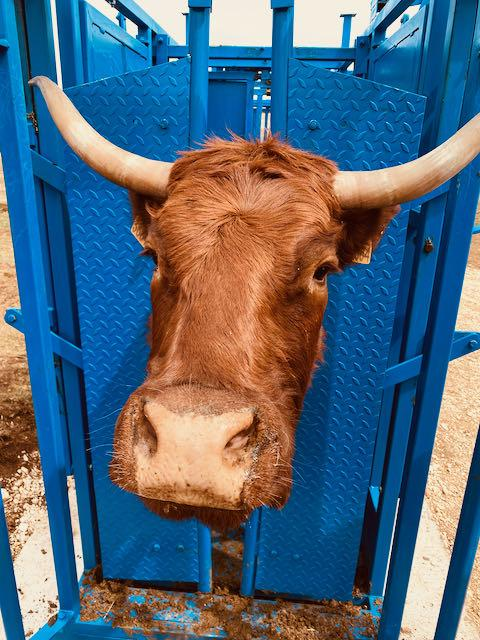muzzles: (104, 390, 299, 530)
